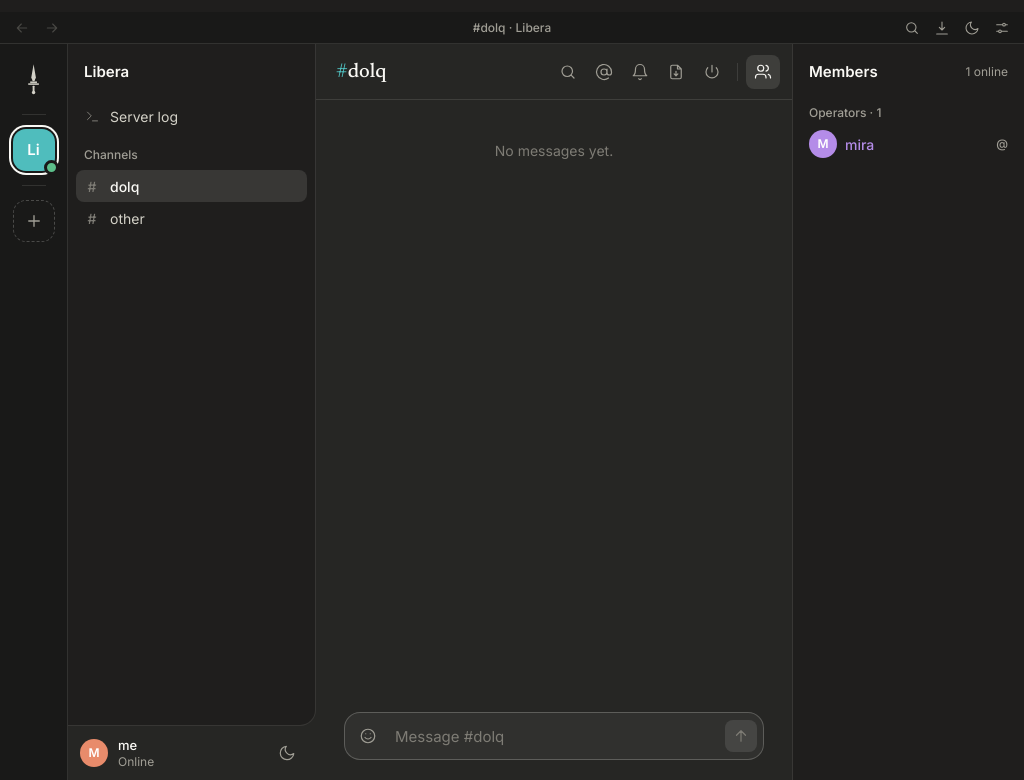
Test: App: sending › tells the user about an unknown command instead of sending it
Type "/frobnicate now" into the field with placeholder "Message #dolq" at (555, 736), box [387, 719, 723, 753]
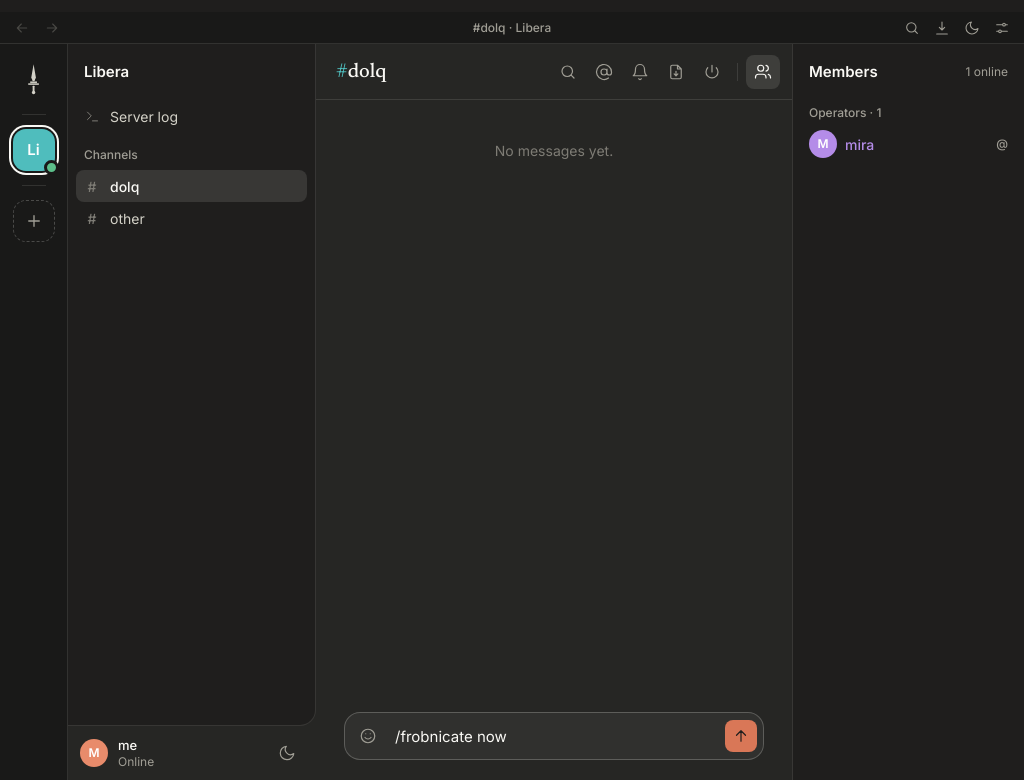
Submit the form with placeholder "Message #dolq", box [344, 712, 764, 760]
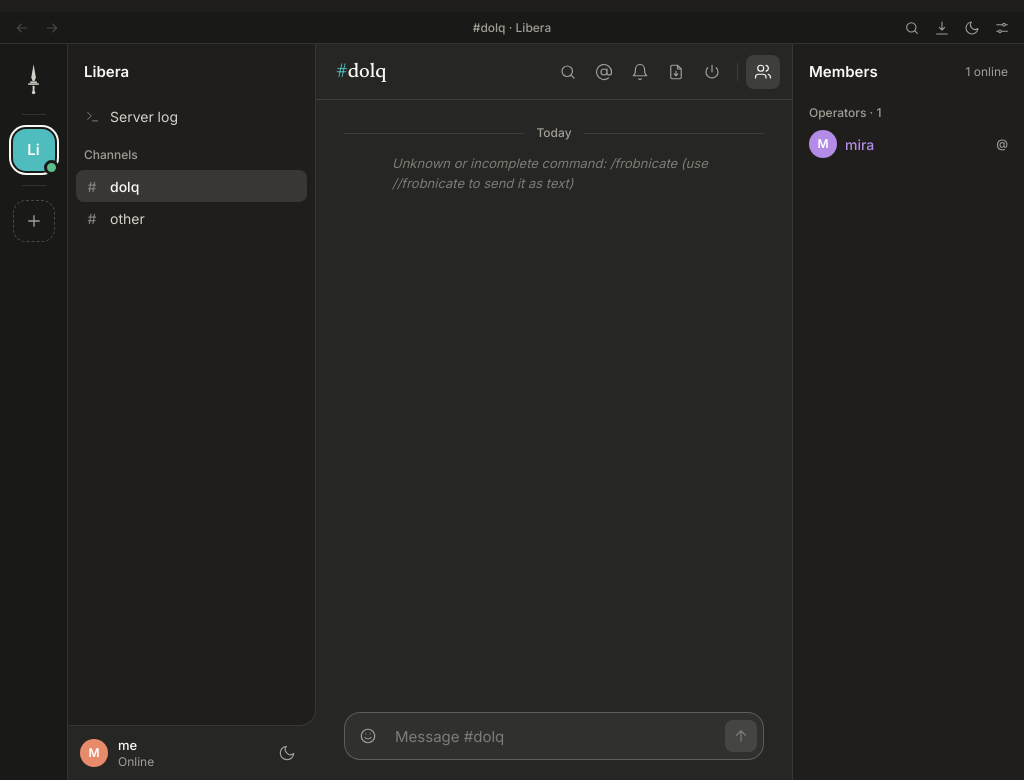
Now the text "Unknown or incomplete command: /frobnicate" is shown, box [392, 155, 708, 190]
